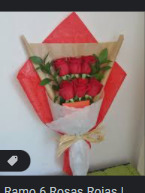RedRose: (68, 52, 84, 74), (57, 82, 74, 102), (51, 52, 67, 73), (88, 78, 104, 95), (80, 54, 94, 71), (75, 81, 87, 98)
